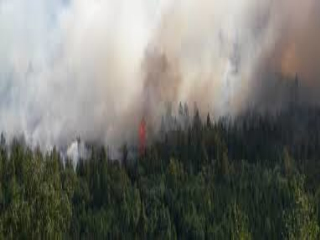fire: (136, 119, 152, 153)
smoke: (14, 71, 133, 161), (143, 29, 212, 129)
